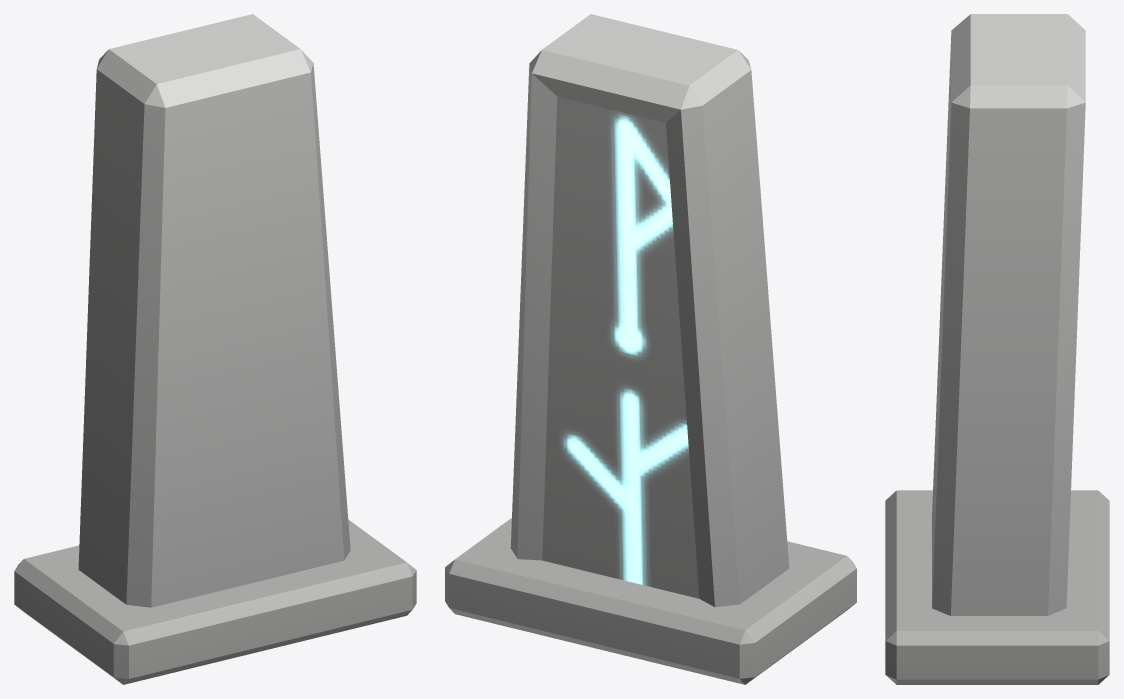
File: SM_ENV_Runestone_A.fbx
3 views of the same model, side by side, from view 1: azimuth 30°, elevation 25°; view 2: azimuth 150°, elevation 25°; view 3: azimuth 270°, elevation 25° (orthographic). The views are drawn at different scales.
Parts seen in each view (by area): view 1: SM_ENV_Runestone_A; view 2: SM_ENV_Runestone_A; view 3: SM_ENV_Runestone_A.
Part boxes in pixels (bbox=[...]): SM_ENV_Runestone_A: bbox=[14, 14, 416, 684]; SM_ENV_Runestone_A: bbox=[445, 14, 856, 684]; SM_ENV_Runestone_A: bbox=[885, 14, 1109, 684].
Bounding box in the file's own units: 0.95 × 1.7 × 0.6.
